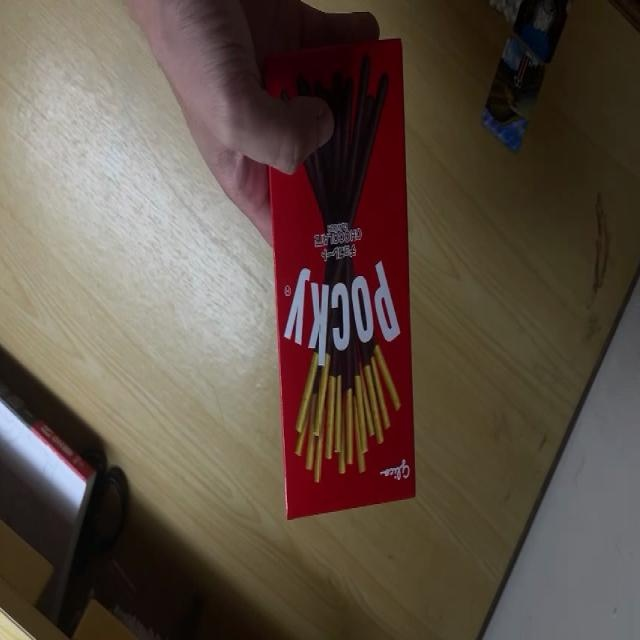Pocky: (264, 35, 418, 527)
